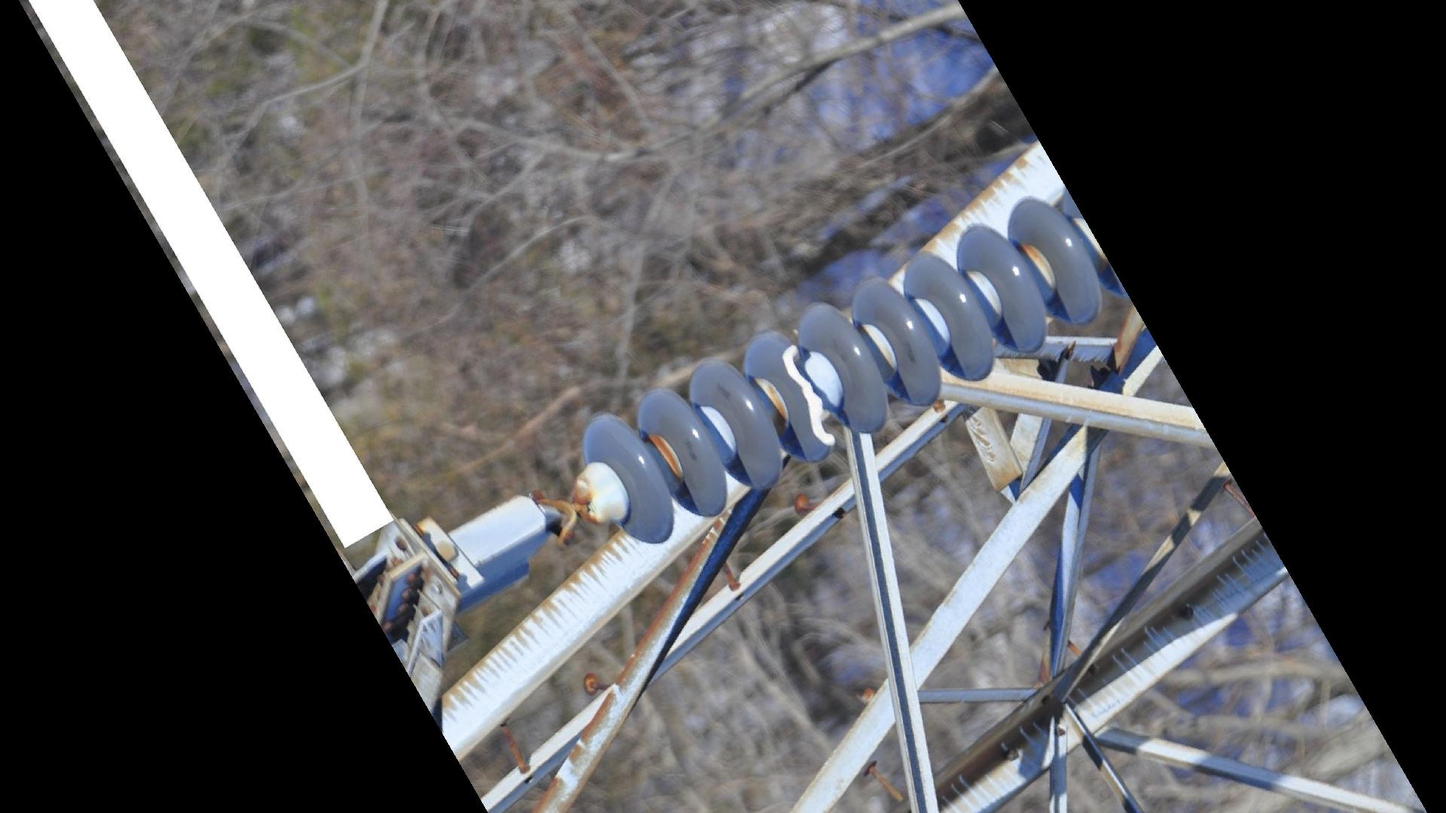insulator: (578, 182, 1122, 550)
insulator_breakage: (770, 337, 845, 455)
